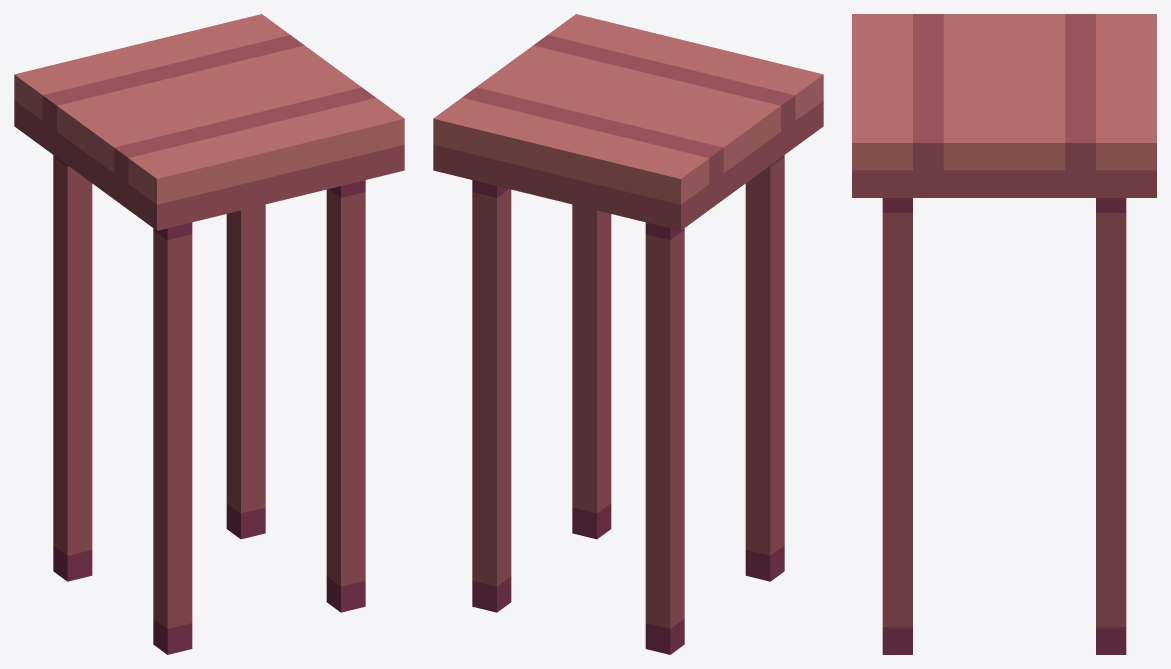
File: barstool.obj
The picture shows the model from 3 angles, left to right: view 1: azimuth 30°, elevation 25°; view 2: azimuth 150°, elevation 25°; view 3: azimuth 270°, elevation 25°; orthographic projection. The views are drawn at different scales.
Parts seen in each view (by area): view 1: barstool; view 2: barstool; view 3: barstool.
Part boxes in pixels (bbox=[...]): barstool: bbox=[14, 14, 404, 654]; barstool: bbox=[433, 14, 823, 654]; barstool: bbox=[852, 14, 1156, 654].
Size of the model in its own units: 5.99 by 11.38 by 5.99.
